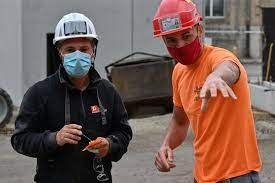Helmet: (145, 3, 201, 33), (54, 14, 100, 39)
Mask: (58, 52, 91, 77), (166, 46, 201, 63)
No-jacket: (165, 69, 257, 178), (35, 79, 122, 183)
